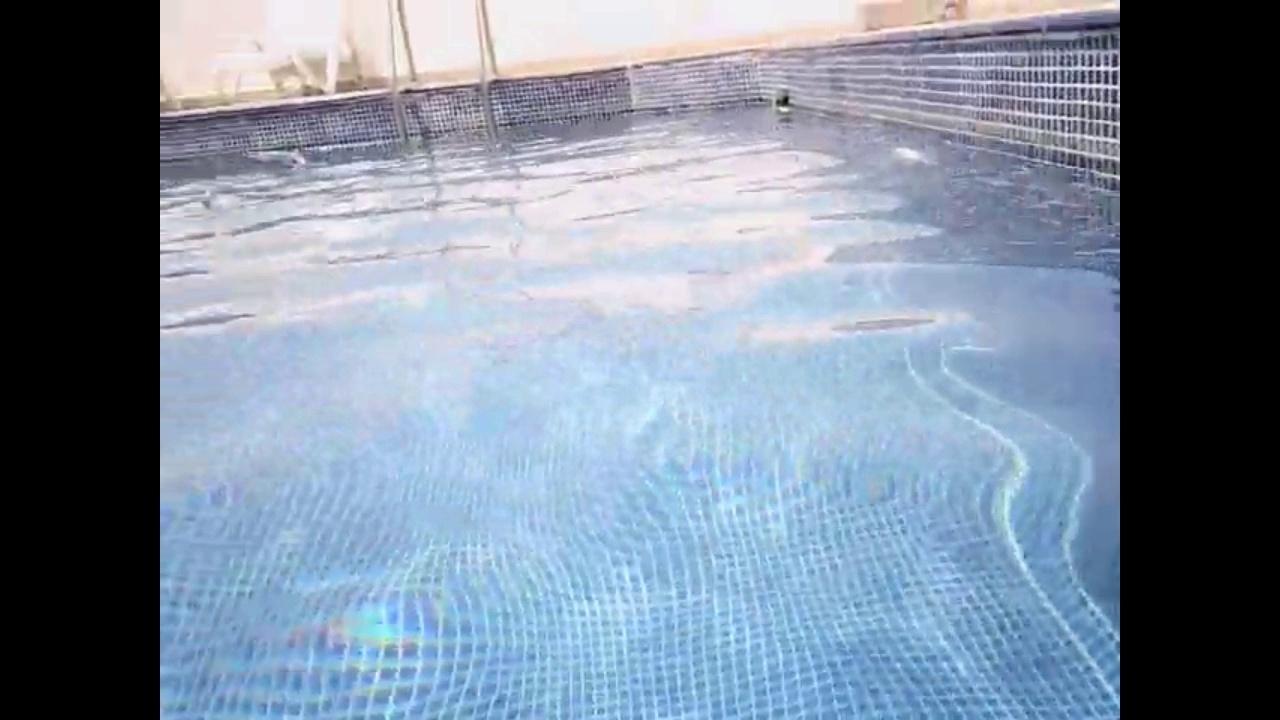debris: (275, 144, 307, 167), (190, 189, 222, 211)
